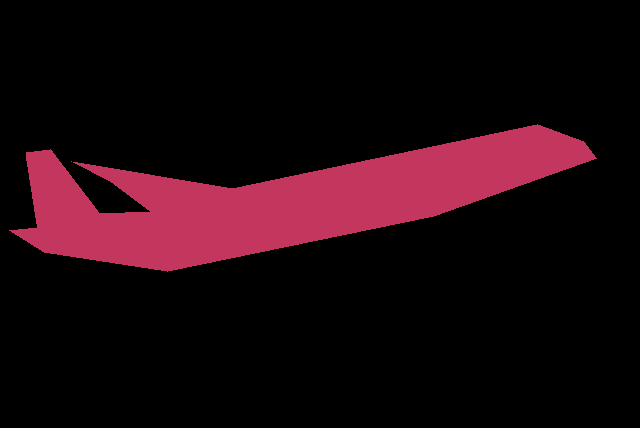Airplane: (9, 124, 596, 272)
